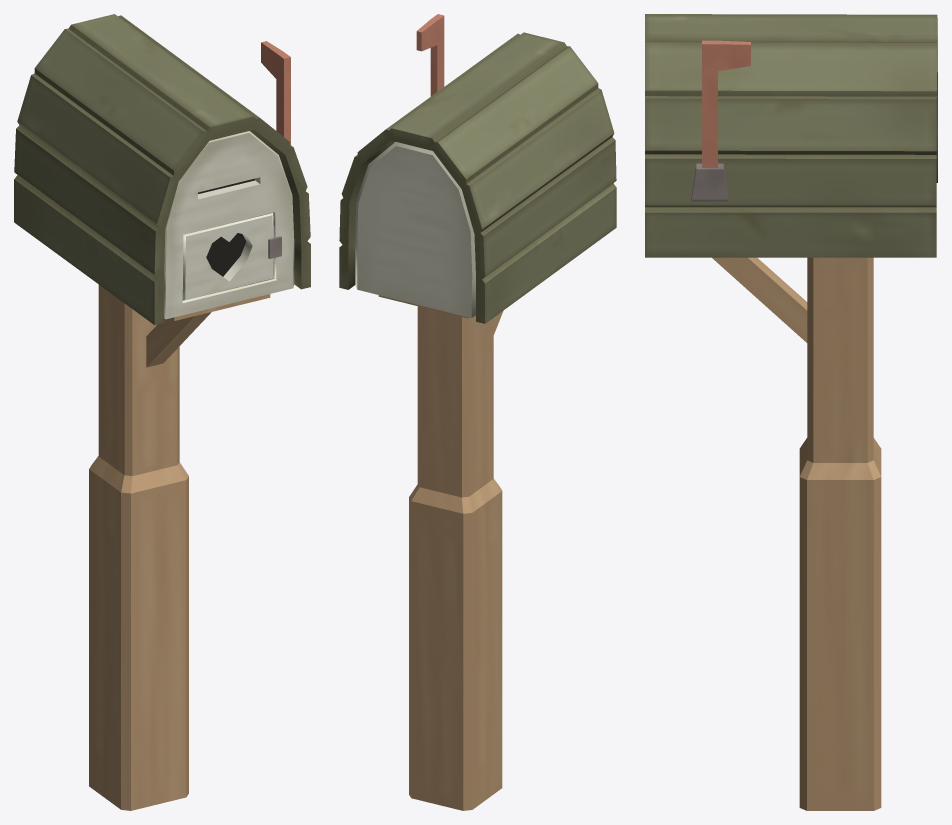
The model's file is letterbox_obj.fbx.
3 renders of one model, left to right at view 1: azimuth 30°, elevation 25°; view 2: azimuth 150°, elevation 25°; view 3: azimuth 270°, elevation 25°, orthographic. The views are drawn at different scales.
Parts seen in each view (by area): view 1: letterbox_obj; view 2: letterbox_obj; view 3: letterbox_obj.
Part boxes in pixels (x1,y1,x2,y2): letterbox_obj: (14, 14, 310, 810); letterbox_obj: (339, 14, 616, 810); letterbox_obj: (645, 14, 937, 810).
Size of the model in its own units: 0.9976 by 4.37 by 1.46.
